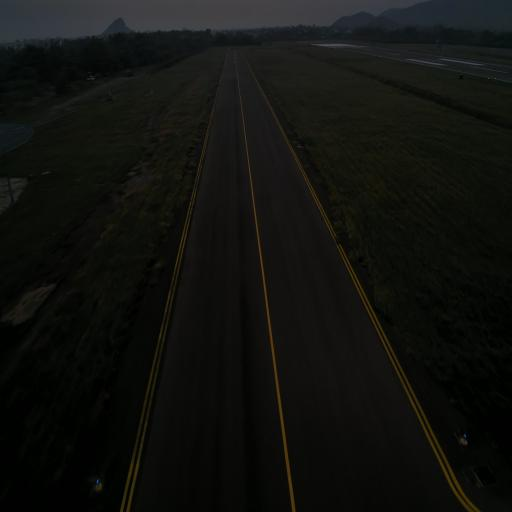on: (460, 430, 469, 444), (95, 471, 102, 485), (297, 141, 302, 148), (193, 148, 195, 154)
